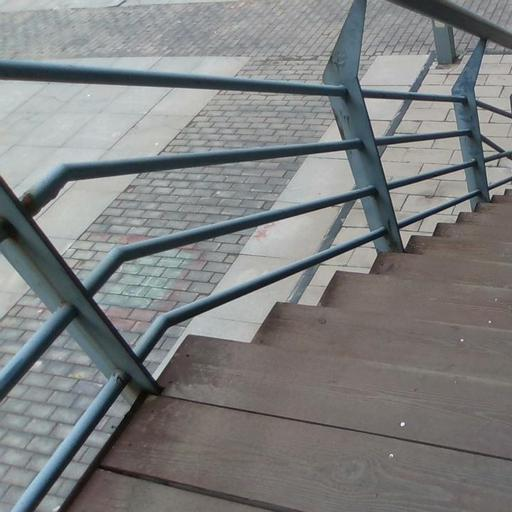stairs: (69, 195, 511, 511)
